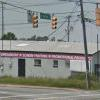Traffic light: (26, 4, 65, 36)
